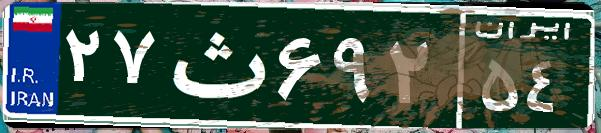2: (385, 28, 445, 110), (57, 26, 110, 107)
4: (525, 38, 570, 115)
5: (475, 38, 525, 113)
6: (273, 28, 330, 110)
7: (110, 28, 158, 105)
9: (330, 28, 385, 110)
ث: (158, 15, 273, 115)
